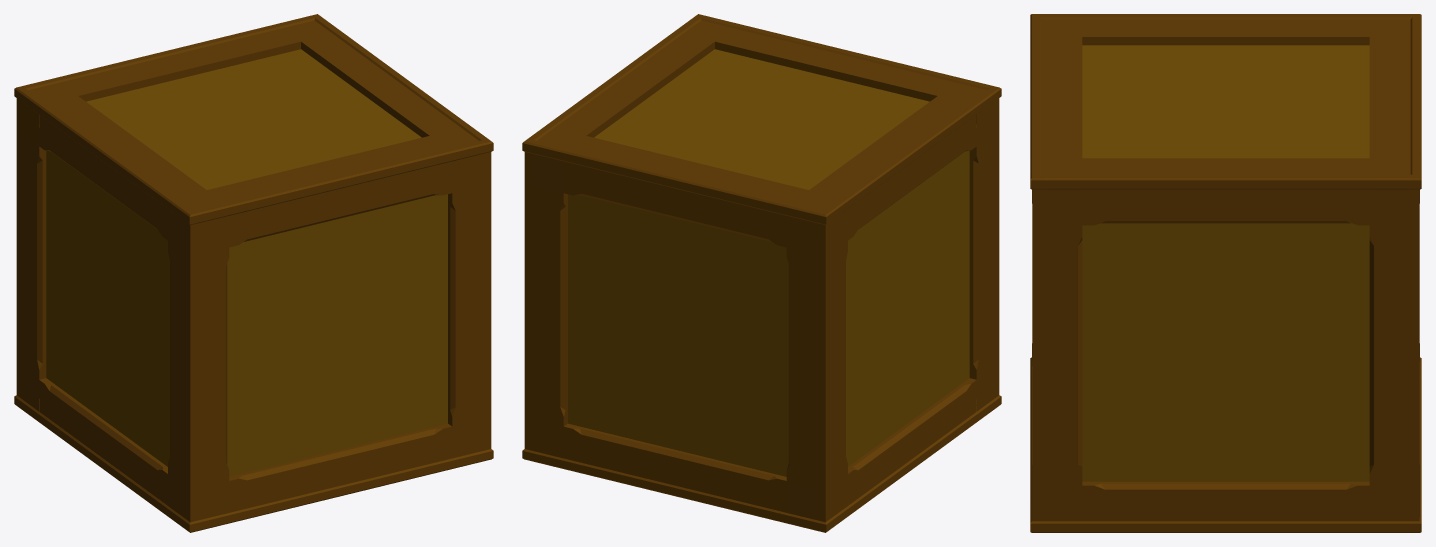
Rendered from PlayerCrate.fbx.
3 views of the same model, side by side, from view 1: azimuth 30°, elevation 25°; view 2: azimuth 150°, elevation 25°; view 3: azimuth 270°, elevation 25° (orthographic). The views are drawn at different scales.
Parts seen in each view (by area): view 1: PlayerCreateUnity; view 2: PlayerCreateUnity; view 3: PlayerCreateUnity.
Boxes of the visible parts, left/top/right/bottom form: PlayerCreateUnity: left=14, top=14, right=493, bottom=532; PlayerCreateUnity: left=522, top=14, right=1001, bottom=532; PlayerCreateUnity: left=1030, top=14, right=1421, bottom=532.
Size of the model in its own units: 1 by 1 by 1.
